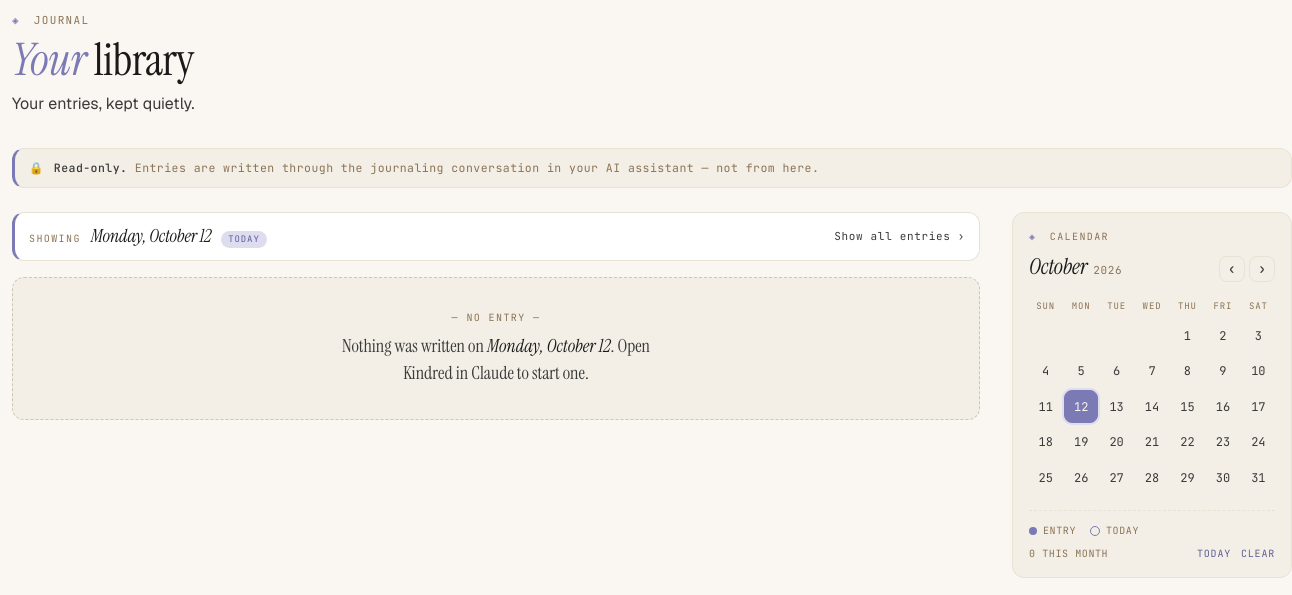
it: Home › renders the date column as "{monthShort} · {weekday}"
Click the button "Show all entries ›": (900, 236) [834,228,965,244]
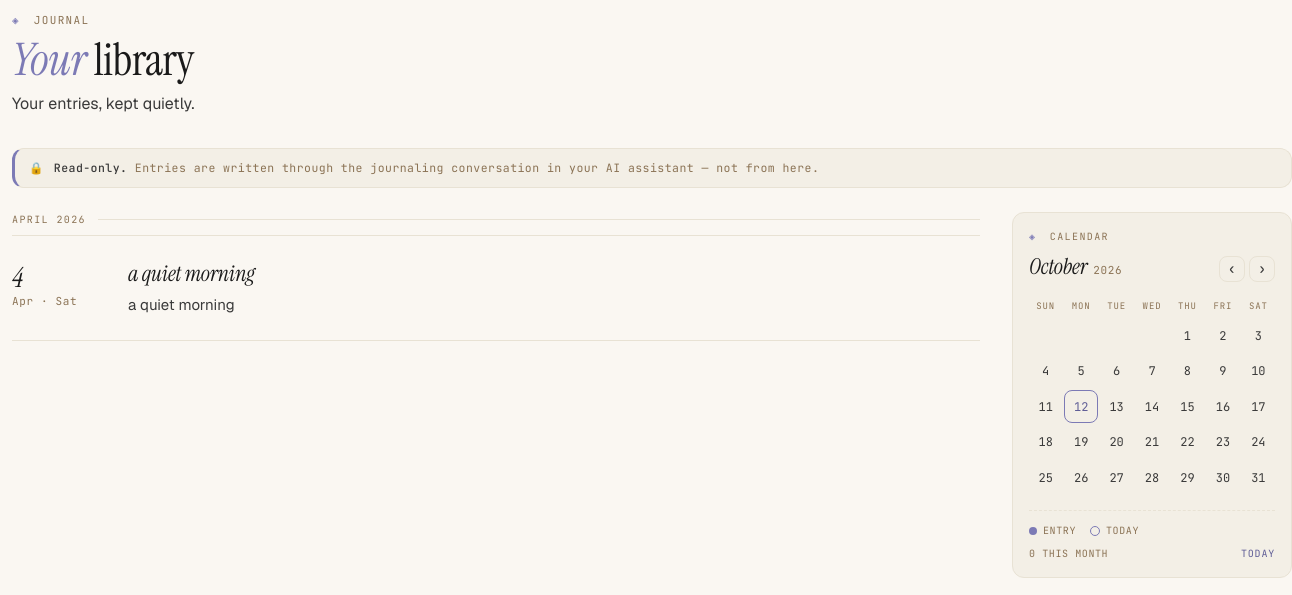
Now the text with class "day" reads "4", box [12,259,23,296]
Now the element with class "entry-date" shows "Apr · Sat", box [12,259,77,308]
